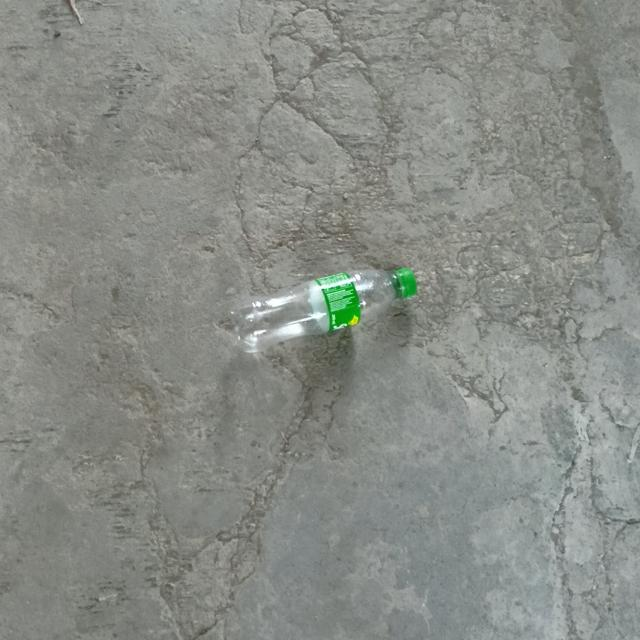Bottle: (221, 268, 417, 353)
